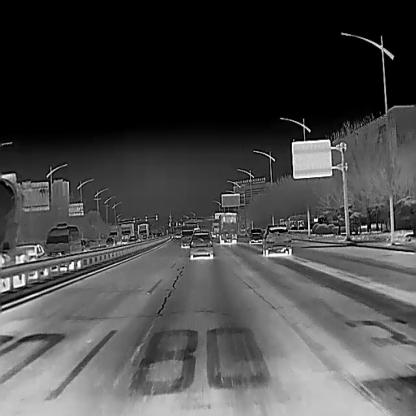car: (44, 225, 80, 257), (262, 224, 292, 256), (189, 232, 213, 258), (15, 243, 43, 261), (248, 228, 262, 244), (181, 229, 192, 246), (127, 235, 140, 243)
truck: (218, 213, 237, 243), (120, 223, 134, 234), (109, 225, 120, 237), (138, 223, 148, 234)
